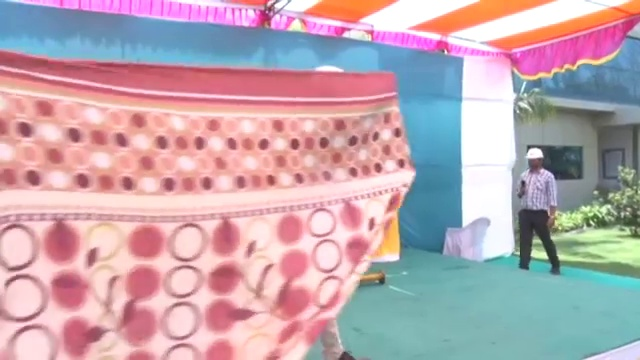helmet: (524, 146, 544, 161)
helmet_on: (524, 146, 544, 174)
person: (515, 147, 563, 276)
